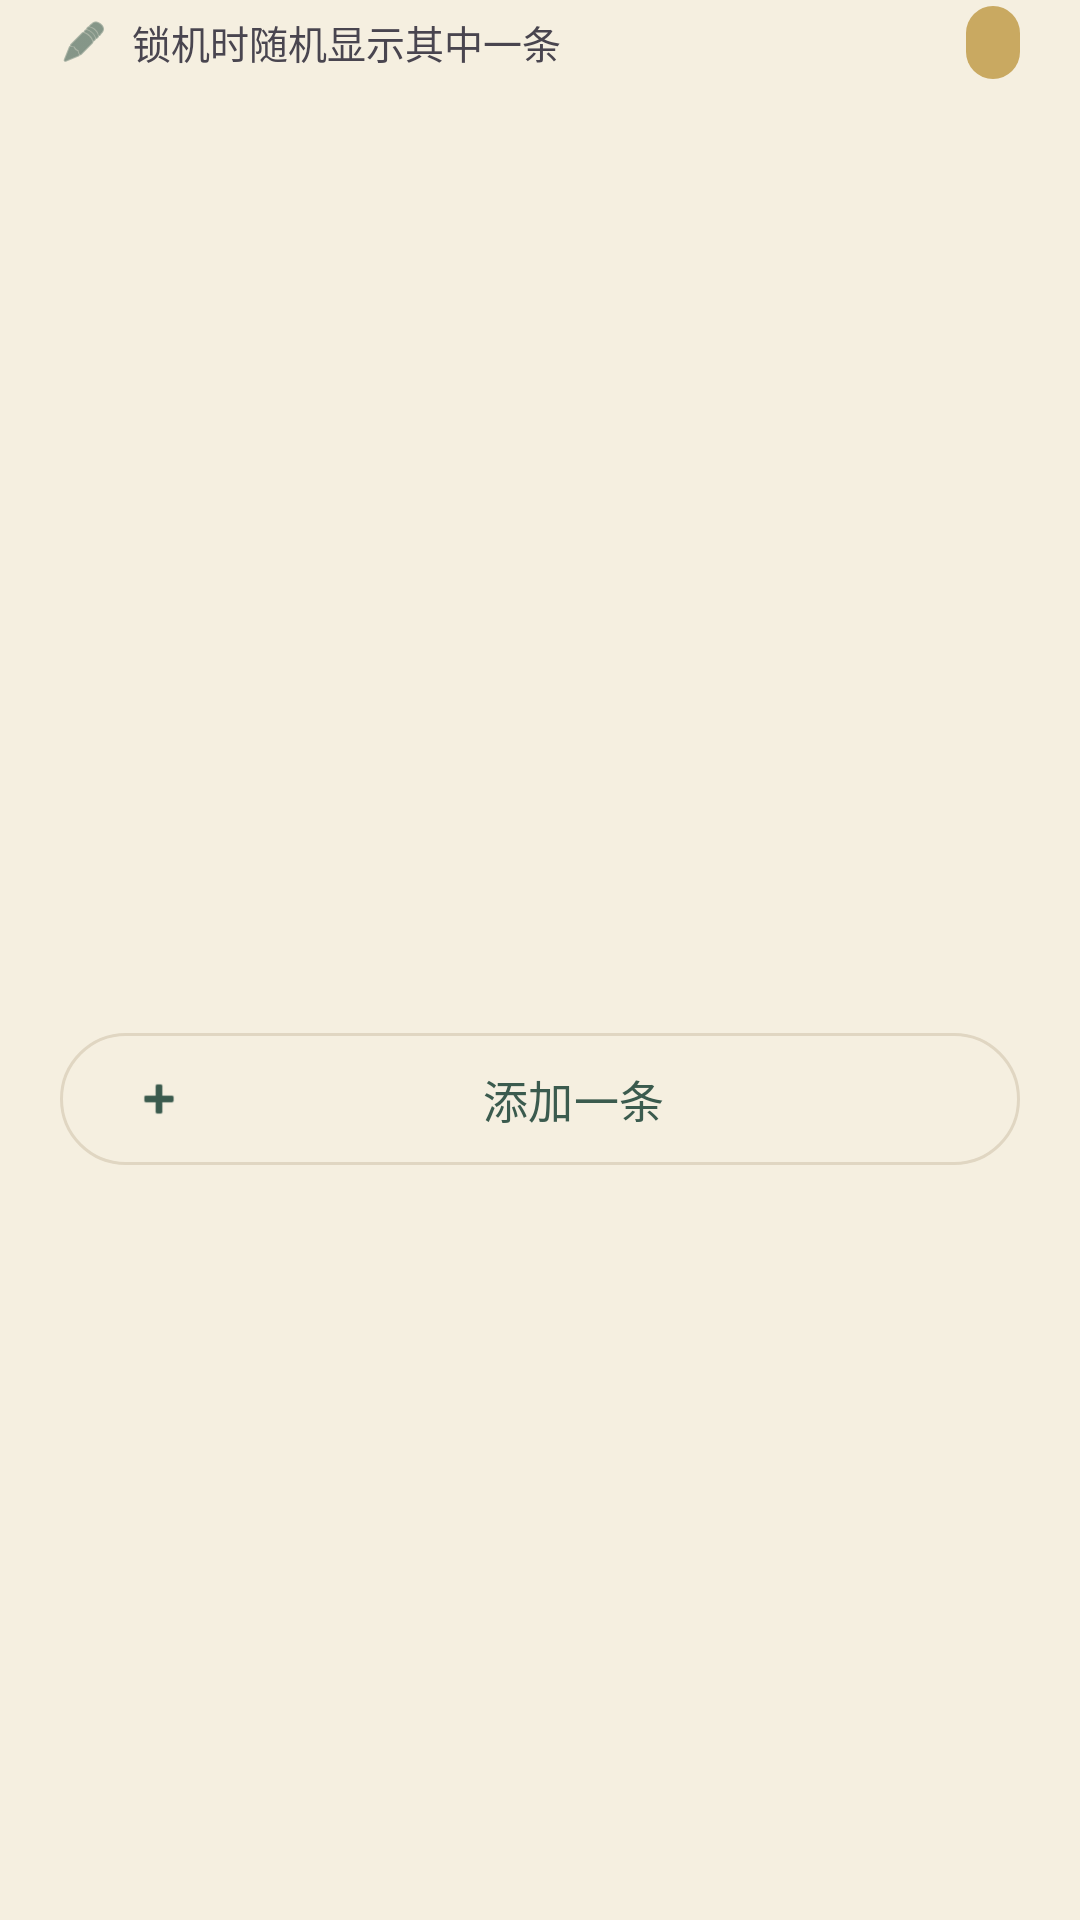

Screen size 1080x1920. Icon name, then its box in pixels as (x1, y1, x2, y2):
edit: (64, 21, 104, 62)
